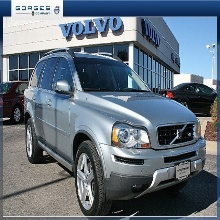no damage: (22, 49, 207, 214)
